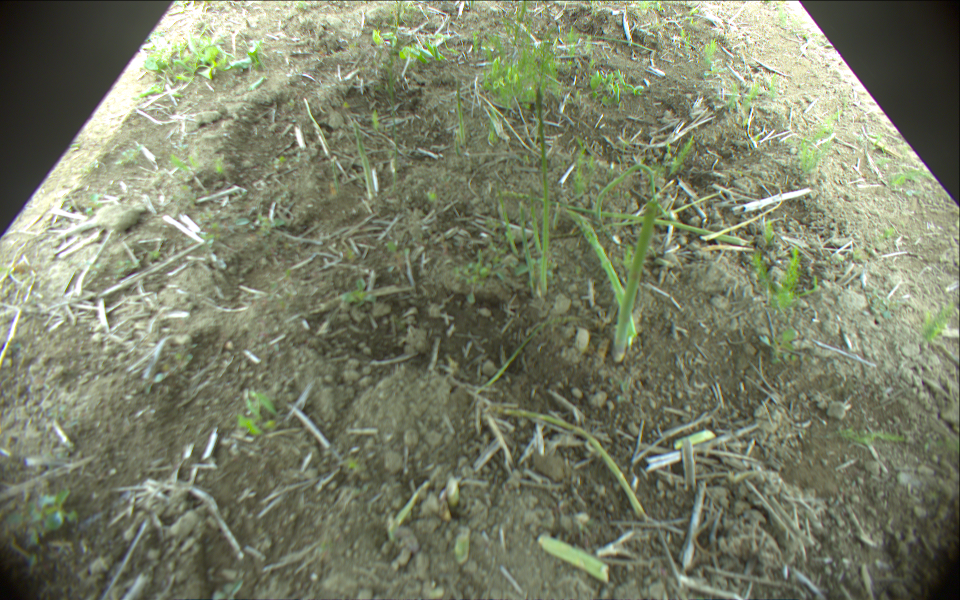aspa: (492, 406, 643, 519), (508, 192, 746, 245), (566, 210, 636, 340), (612, 199, 654, 361), (594, 165, 668, 221), (534, 87, 552, 294), (541, 534, 607, 580), (351, 119, 377, 199), (518, 207, 537, 292), (496, 180, 517, 256), (454, 77, 468, 147), (529, 190, 541, 256), (454, 527, 471, 566), (445, 479, 458, 506)
